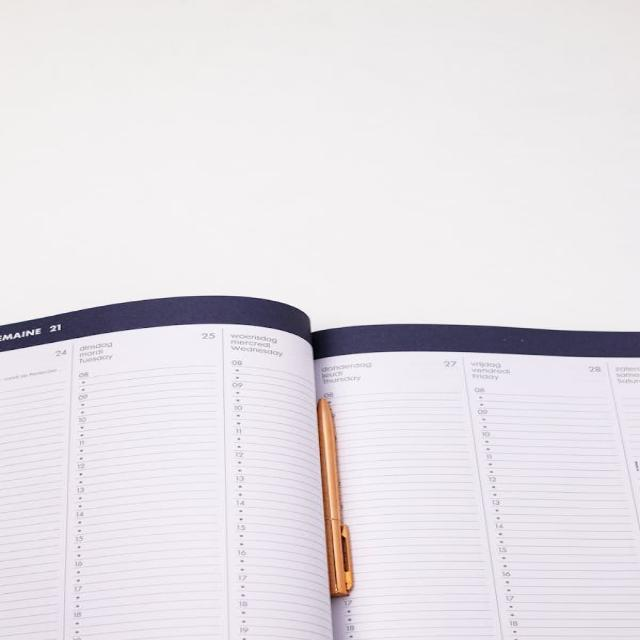pen: (306, 392, 394, 614)
